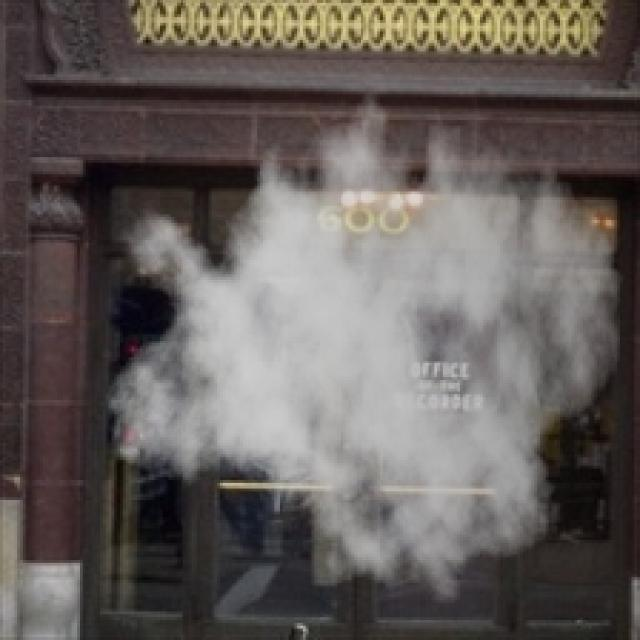Smoke: (103, 62, 623, 618)
